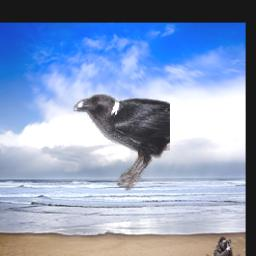Crow: (75, 95, 171, 192)
